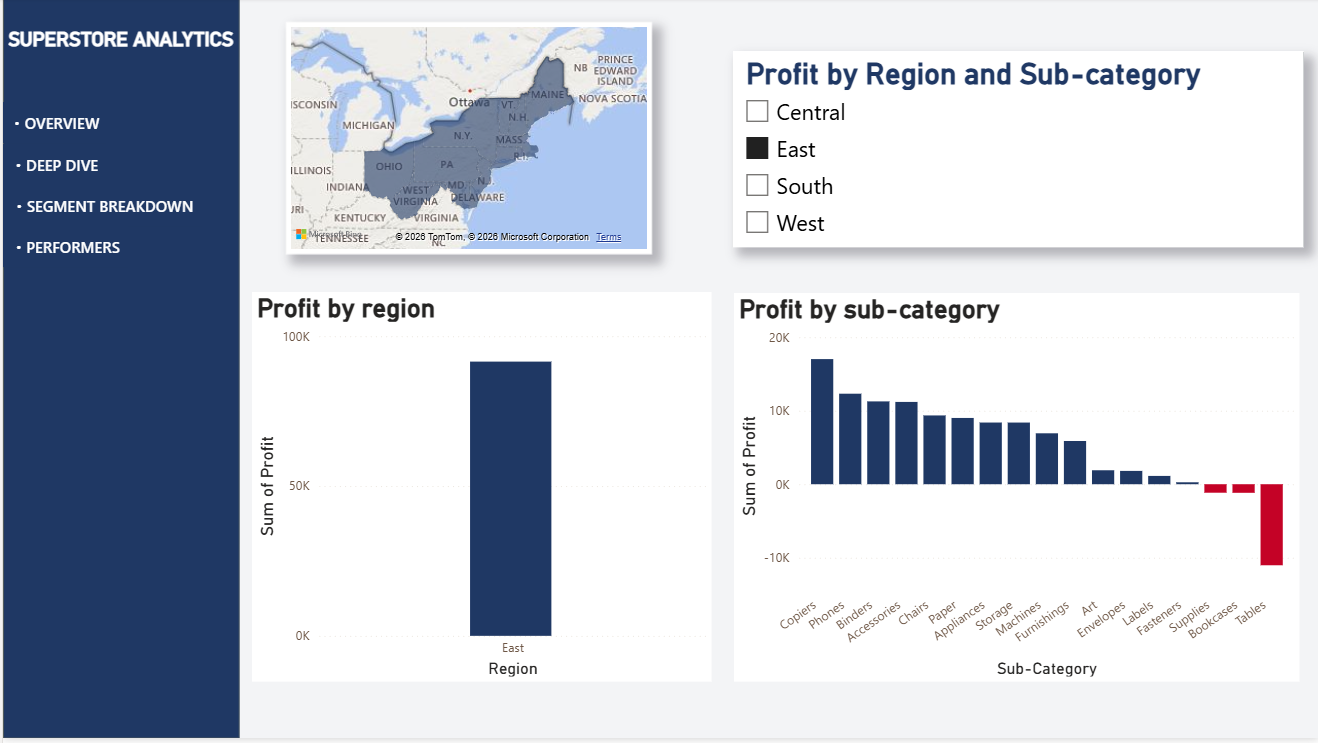

What the dashboard file says about the page in this screenshot:
{"tool":"powerbi","page":{"name":"Deep Dive ( Region )","canvas":[1280,720],"ordinal":1},"visuals":[{"type":"shape","box":[710.5,53,554.9,189.5],"z":0},{"type":"slicer","fields":{"Values":["SampleSuperstorecleaned.Region"]},"box":[710.5,51.9,554.9,190.6],"z":1000},{"type":"clusteredColumnChart","title":"Profit by region","fields":{"Y":["Sum(SampleSuperstorecleaned.Profit)"],"Category":["SampleSuperstorecleaned.Region"]},"box":[242.6,285.8,446.7,379.4],"z":2000},{"type":"clusteredColumnChart","title":"Profit by sub-category","fields":{"Y":["Sum(SampleSuperstorecleaned.Profit)"],"Category":["SampleSuperstorecleaned.Sub-Category"]},"box":[710.8,287,549.9,378.2],"z":3000},{"type":"shape","box":[0,0,230.3,720.3],"z":4000},{"type":"textbox","box":[0,23.6,242.1,56.7],"z":5000},{"type":"actionButton","box":[0,101.5,100.4,40.1],"z":6000},{"type":"actionButton","box":[0,141.7,100.4,40.1],"z":7000},{"type":"actionButton","box":[0,181.8,193.7,40.1],"z":8000},{"type":"actionButton","box":[0,222,121.6,40.1],"z":9000},{"type":"filledMap","fields":{"Category":["SampleSuperstorecleaned.State"]},"box":[275.2,23.7,356.4,225.6],"z":10000}]}

Visuals, with their boxes in screenshot pixels (x1, y1, x2, y2), scaled from the page's 1280x720 canvas onto the 1318x743 screenshot:
shape: region(732, 55, 1303, 250)
slicer - SampleSuperstorecleaned.Region: region(732, 54, 1303, 250)
"Profit by region" clusteredColumnChart: region(250, 295, 710, 686)
"Profit by sub-category" clusteredColumnChart: region(732, 296, 1298, 686)
shape: region(0, 0, 237, 742)
textbox: region(0, 24, 249, 83)
actionButton: region(0, 105, 103, 146)
actionButton: region(0, 146, 103, 188)
actionButton: region(0, 188, 199, 229)
actionButton: region(0, 229, 125, 270)
filledMap - SampleSuperstorecleaned.State: region(283, 24, 650, 257)
